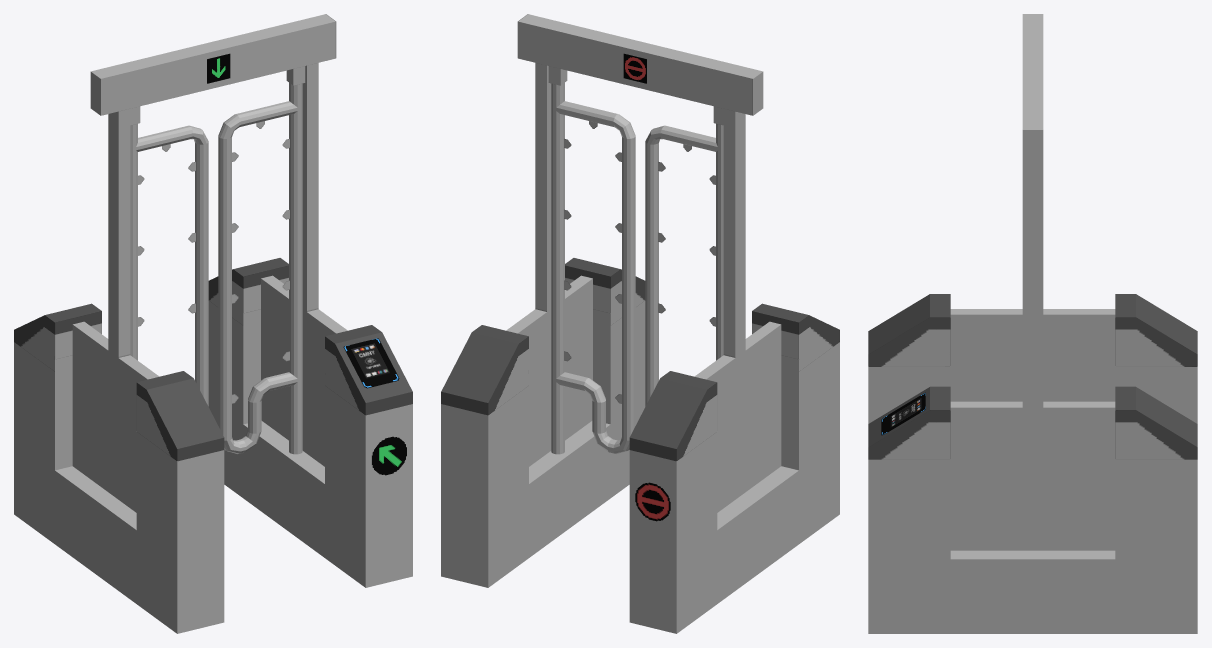
Rendered from nyc_subway_fare_gate_4_entrance_closed.obj.
3 renders of one model, left to right at view 1: azimuth 30°, elevation 25°; view 2: azimuth 150°, elevation 25°; view 3: azimuth 270°, elevation 25°, orthographic.
Parts seen in each view (by area): view 1: right, left, doorRight, doorLeft, cube; view 2: right, left, doorRight, doorLeft, cube; view 3: right, left, cube.
Boxes of the visible parts, x1,y1,x2,y2 form: right: (72, 83, 412, 633); left: (14, 14, 347, 603); doorRight: (218, 101, 299, 453); doorLeft: (134, 125, 208, 406); cube: (207, 53, 406, 475); right: (441, 83, 839, 587); left: (506, 14, 839, 633); doorRight: (554, 101, 635, 453); doorLeft: (645, 125, 719, 406); cube: (623, 53, 670, 521); right: (868, 309, 1197, 633); left: (868, 14, 1197, 550); cube: (881, 392, 925, 435).
Bounding box in the file's own units: 1.25 × 2.53 × 1.5.
Materials: 1 (1 with a texture image).
